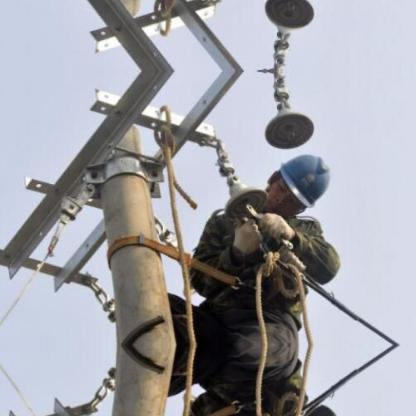Safety Helmet: (259, 151, 340, 227)
